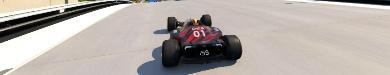Car: (160, 14, 242, 66)
